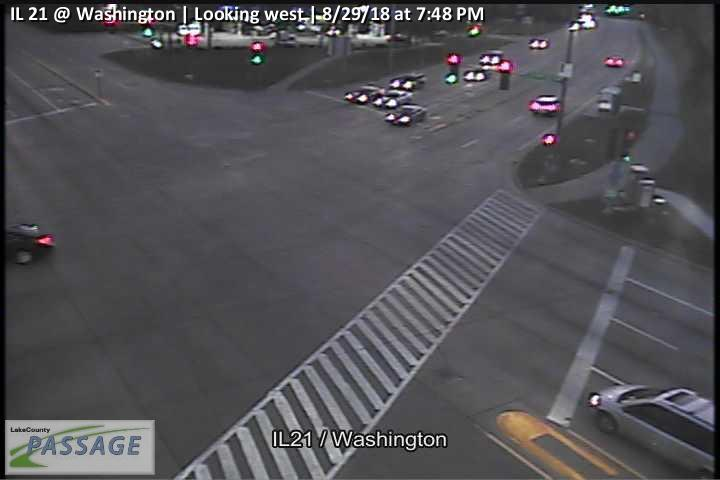SUV: (587, 383, 716, 480), (390, 71, 426, 90), (531, 95, 561, 117)
Sedan: (5, 223, 56, 266), (385, 104, 427, 124), (374, 89, 414, 107), (346, 86, 382, 103)
